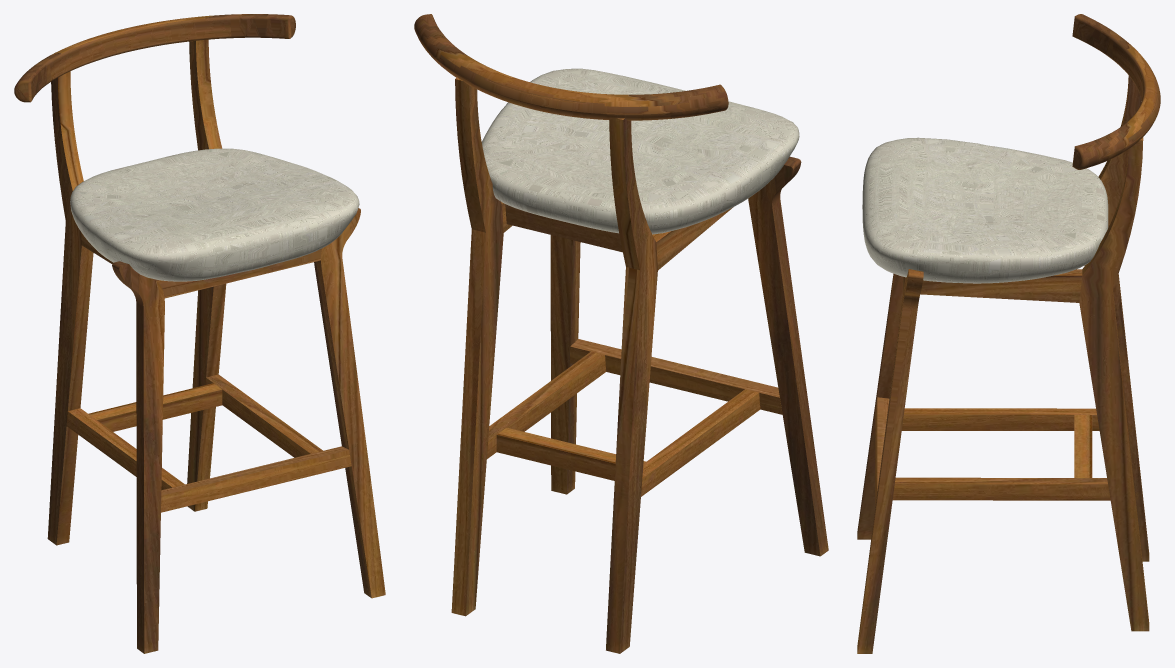
File: Ofstillness - barstool.glb
The picture shows the model from 3 angles, left to right: view 1: azimuth 30°, elevation 25°; view 2: azimuth 150°, elevation 25°; view 3: azimuth 270°, elevation 25°; orthographic projection. The views are drawn at different scales.
Parts seen in each view (by area): view 1: mesh_0, mesh_13; view 2: mesh_0, mesh_13; view 3: mesh_0, mesh_13.
Boxes of the visible parts, x1=… form: mesh_0: x1=14, y1=14, x2=385, y2=653; mesh_13: x1=70, y1=148, x2=359, y2=281; mesh_0: x1=414, y1=14, x2=828, y2=653; mesh_13: x1=481, y1=68, x2=799, y2=234; mesh_0: x1=857, y1=14, x2=1160, y2=653; mesh_13: x1=862, y1=137, x2=1108, y2=283.
Bounding box in the file's own units: 0.5528 × 0.9357 × 0.5021.
2 materials, 2 textured.
